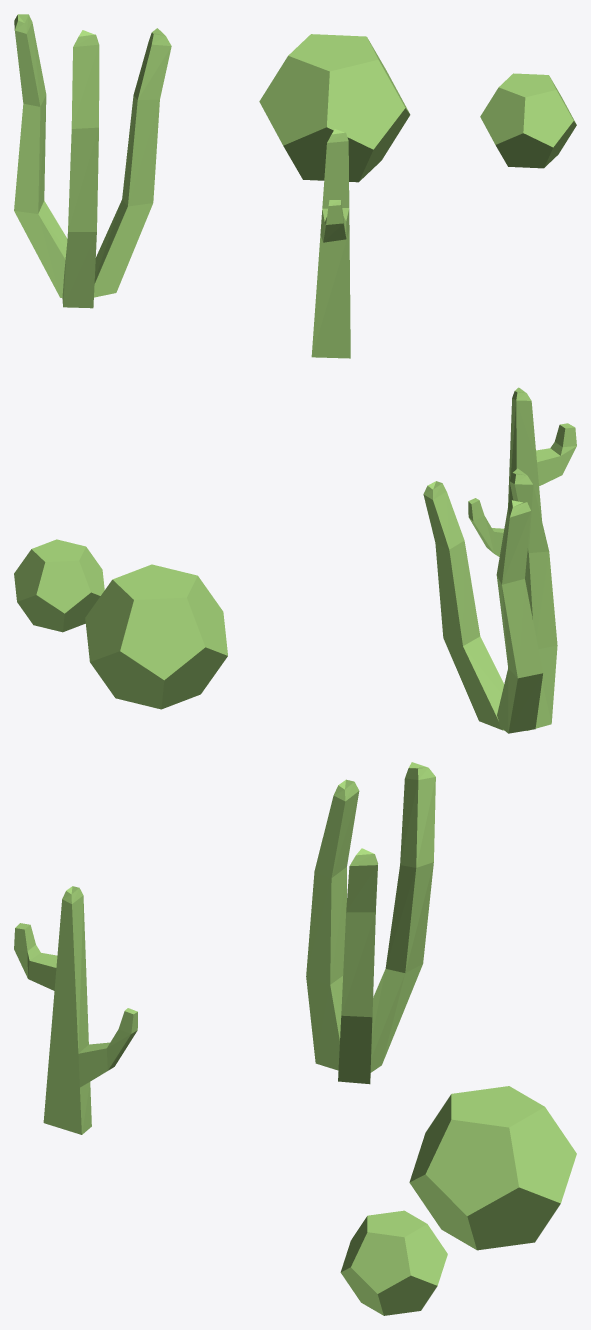
The model's file is pflanzen-very-low-poly_19-04.fbx.
3 views of the same model, one above another, from view 1: azimuth 30°, elevation 25°; view 2: azimuth 150°, elevation 25°; view 3: azimuth 270°, elevation 25° (orthographic). The views are drawn at different scales.
Visible parts, largest first — view 1: Kaktus_3er, Busch_1, Kaktus_2, Busch; view 2: Kaktus_3er, Busch_1, Busch, Kaktus_2; view 3: Kaktus_3er, Busch_1, Kaktus_2, Busch.
Part boxes in pixels (x1,y1,x2,y2): Kaktus_3er: (14,14,171,308); Busch_1: (259,34,410,182); Kaktus_2: (311,129,350,358); Busch: (480,73,576,168); Kaktus_3er: (423,468,557,733); Busch_1: (85,564,227,709); Busch: (14,539,104,632); Kaktus_2: (468,387,576,556); Kaktus_3er: (306,762,435,1084); Busch_1: (409,1086,576,1250); Kaktus_2: (14,886,137,1134); Busch: (340,1210,447,1315).
Size of the model in its own units: 474 by 219 by 385.
